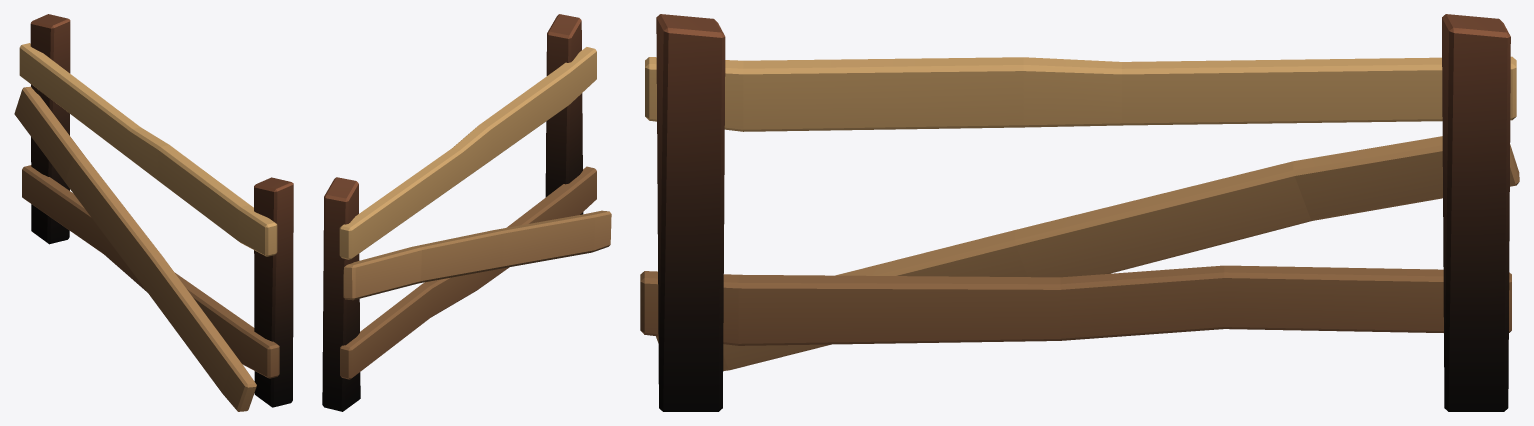
Rendered from Fence 2.glb.
The picture shows the model from 3 angles, left to right: view 1: azimuth 30°, elevation 25°; view 2: azimuth 150°, elevation 25°; view 3: azimuth 270°, elevation 25°; orthographic projection. The views are drawn at different scales.
Visible parts, largest first — view 1: Fence 2; view 2: Fence 2; view 3: Fence 2.
Boxes of the visible parts, x1,y1,x2,y2 form: Fence 2: [14, 14, 293, 411]; Fence 2: [322, 14, 611, 411]; Fence 2: [640, 14, 1519, 411].
Size of the model in its own units: 0.5344 by 2.03 by 4.19.
Materials: 1 (1 with a texture image).
